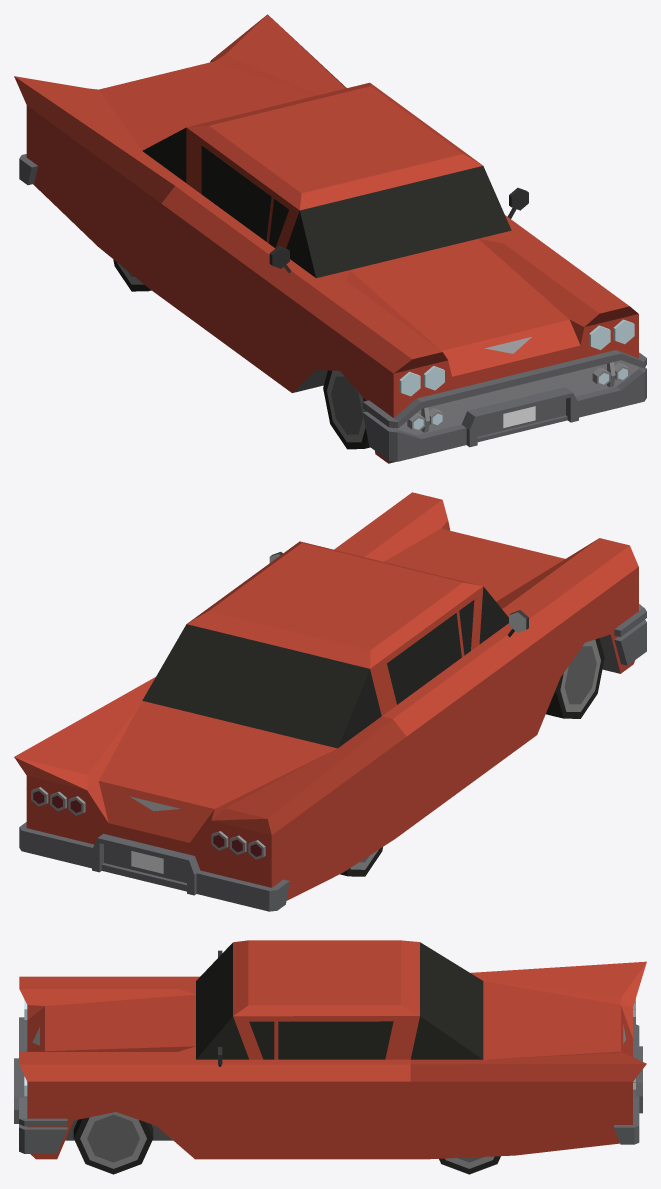
The model's file is Veh_Retro_Car_03_Red.obj.
3 views of the same model, one above another, from view 1: azimuth 30°, elevation 25°; view 2: azimuth 150°, elevation 25°; view 3: azimuth 270°, elevation 25° (orthographic). The views are drawn at different scales.
Size of the model in its own units: 1.16 by 0.8052 by 2.99.
